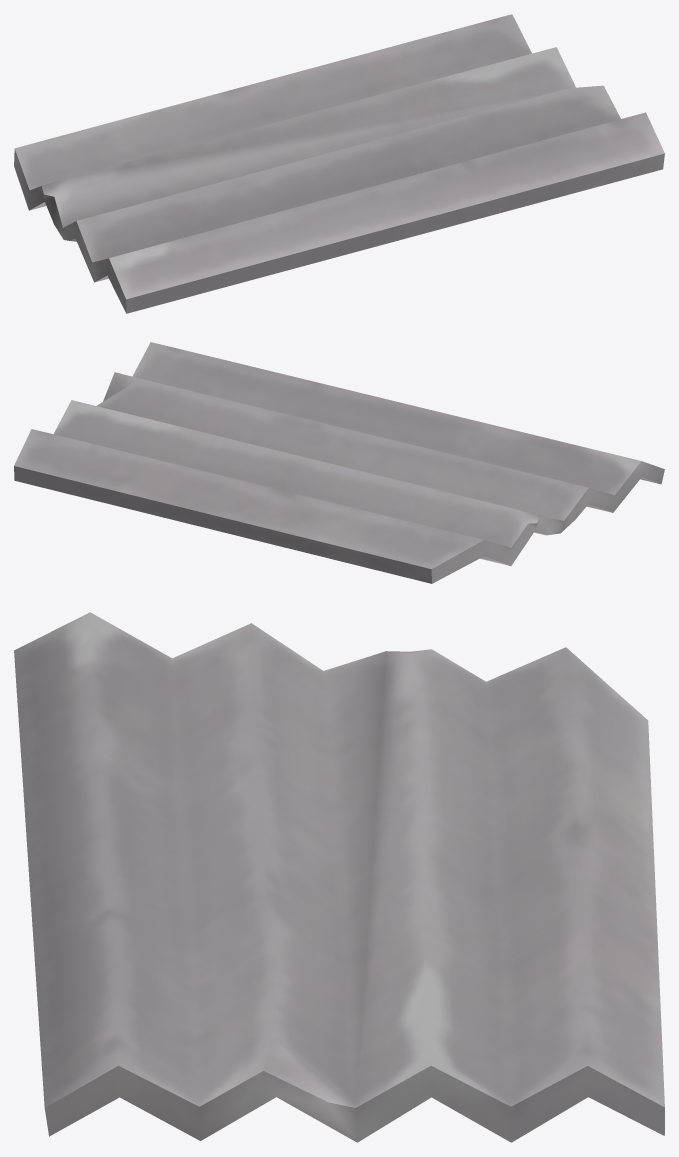
Rendered from Pfb_MetalBoard__11.fbx.
3 renders of one model, top to bottom at view 1: azimuth 30°, elevation 25°; view 2: azimuth 150°, elevation 25°; view 3: azimuth 270°, elevation 25°, orthographic. The views are drawn at different scales.
Parts seen in each view (by area): view 1: Mat_MetalBoard_01_1 1; view 2: Mat_MetalBoard_01_1 1; view 3: Mat_MetalBoard_01_1 1.
Part boxes in pixels (<box>): Mat_MetalBoard_01_1 1: <box>14,14,664,313</box>; Mat_MetalBoard_01_1 1: <box>14,342,664,583</box>; Mat_MetalBoard_01_1 1: <box>14,612,664,1142</box>.
Size of the model in its own units: 1.5 by 0.1325 by 0.8779.
1 material, 1 textured.
